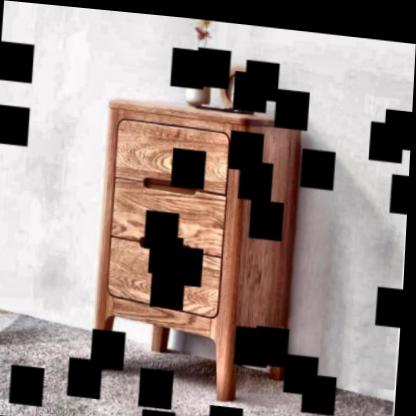Nightstand: (90, 93, 304, 394)
